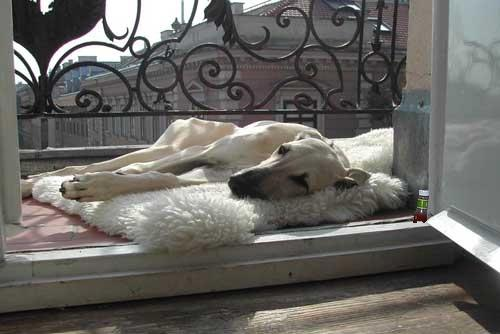tampered: (414, 190, 429, 252)
